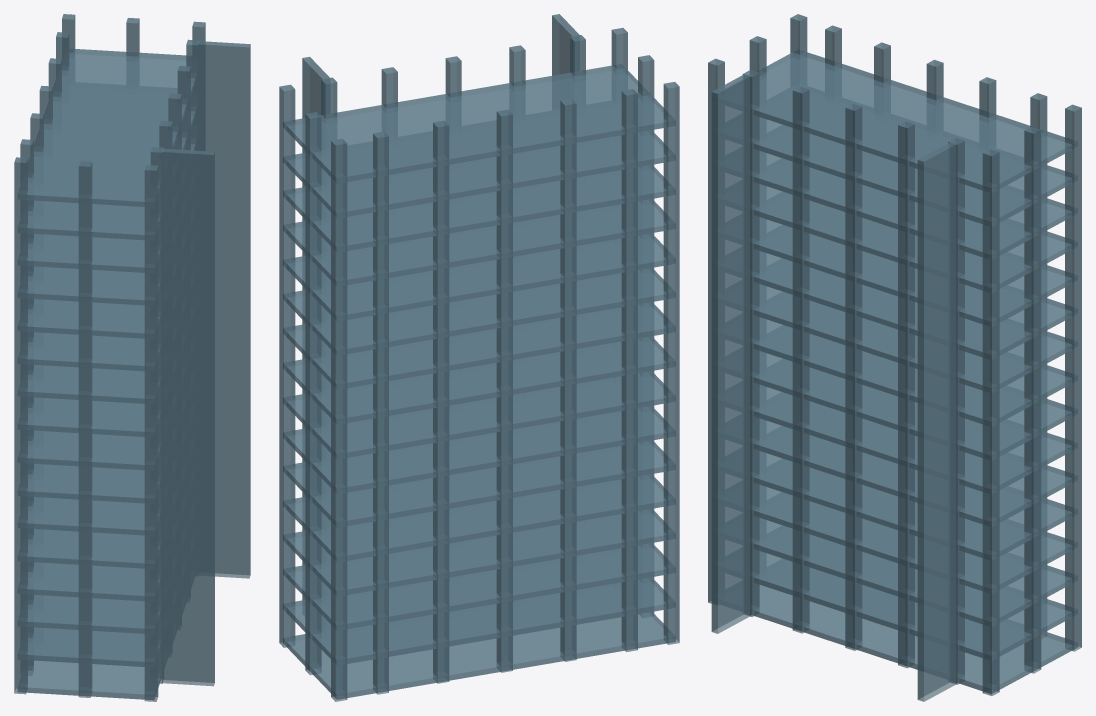
Rendered from syrfangzi.fbx.
3 views of the same model, side by side, from view 1: azimuth 30°, elevation 25°; view 2: azimuth 150°, elevation 25°; view 3: azimuth 270°, elevation 25° (orthographic). The views are drawn at different scales.
Parts seen in each view (by area): view 1: syrplant; view 2: syrplant; view 3: syrplant.
Part boxes in pixels (x1,y1,x2,y2): syrplant: [14, 14, 250, 701]; syrplant: [279, 14, 679, 701]; syrplant: [708, 14, 1081, 701].
Size of the model in its own units: 333 by 567 by 356.
